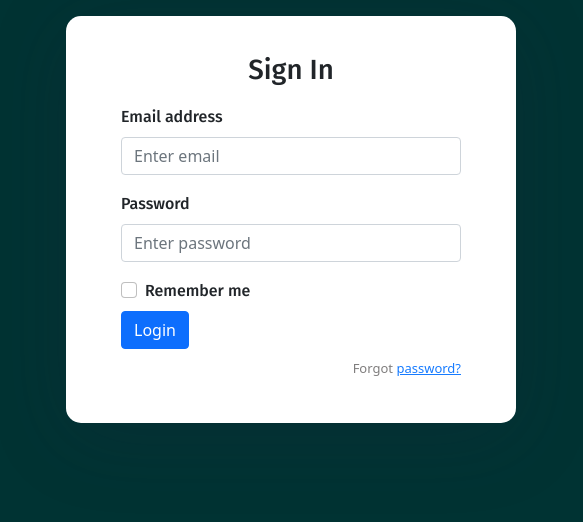
Login Test › ログイン失敗パターンのテスト
In the field with placeholder "Enter email": (291, 156) top-left (121, 137), bottom-right (461, 175), type "test@test.com"
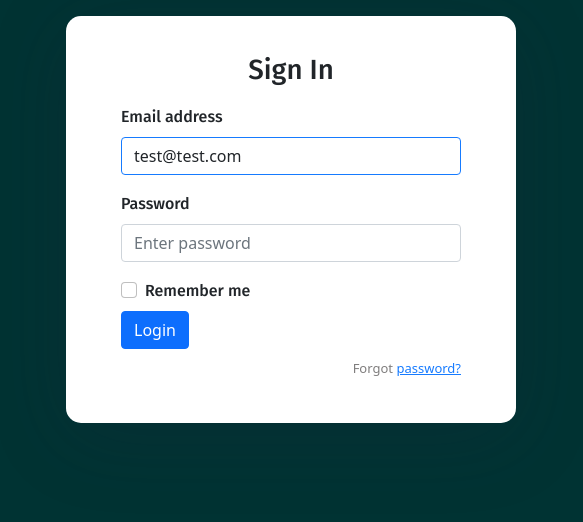
In the password field with placeholder "Enter password": (291, 243) top-left (121, 224), bottom-right (461, 262), type "12345678Aa"
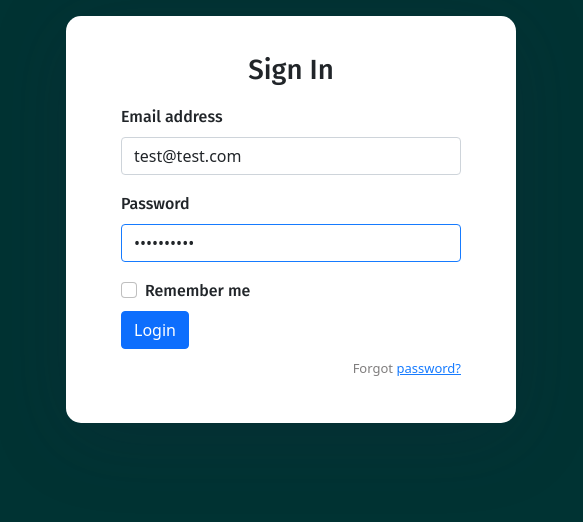
Click the button with test id "login-btn": click(155, 330) top-left (121, 311), bottom-right (189, 349)
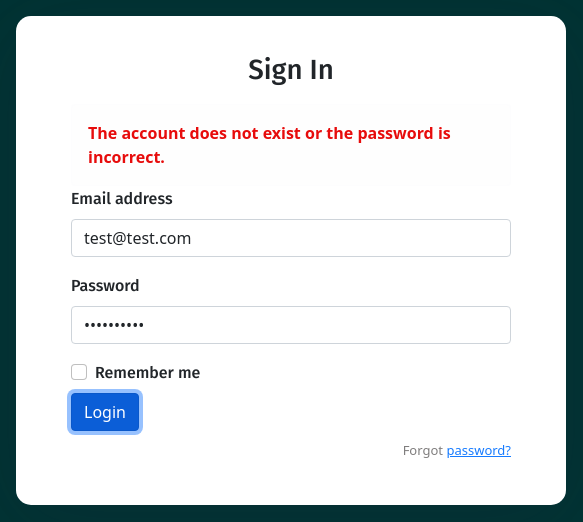
Expected: the message "The account does not exist or the password is incorrect." is shown, top-left (71, 104), bottom-right (511, 186)
